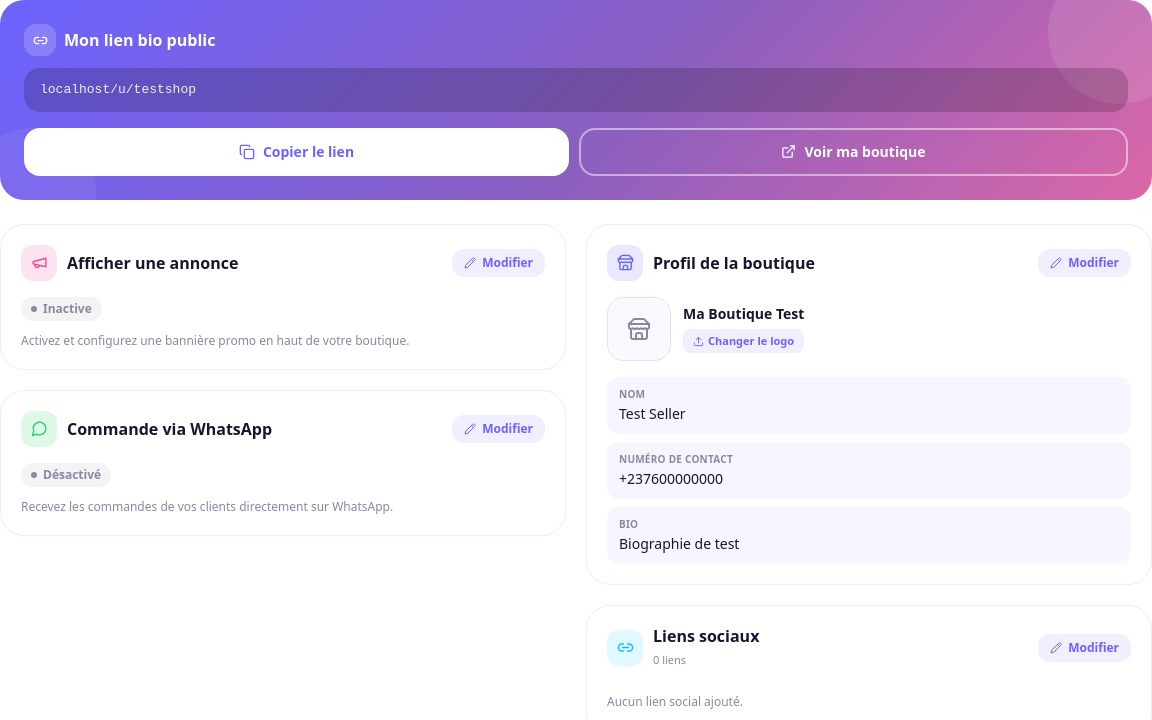
Test case: BioLink — section Annonce › mode édition : le toggle et les champs texte sont visibles
Click the button "Modifier" in the row of "Afficher une annonce": (499, 262) [452,248,545,276]
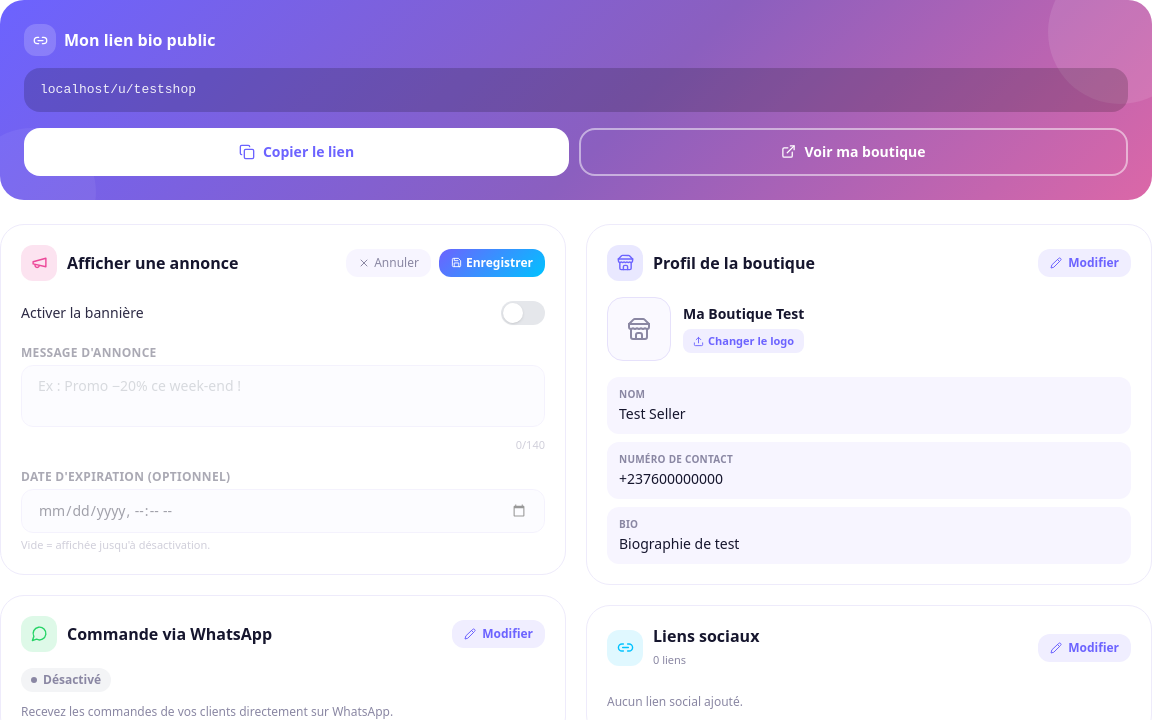
Result: the switch is shown at [501,300,545,324]
